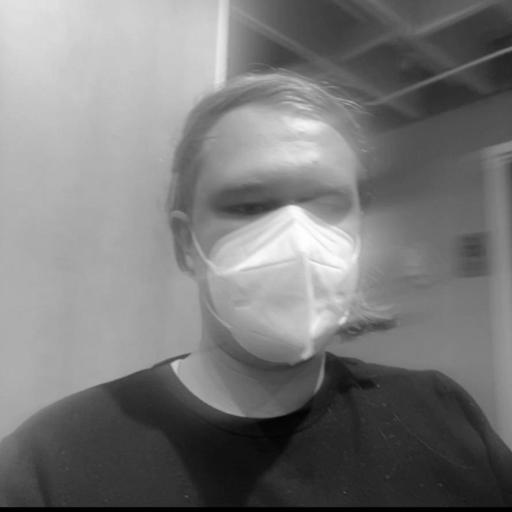mask: (135, 48, 417, 408)
